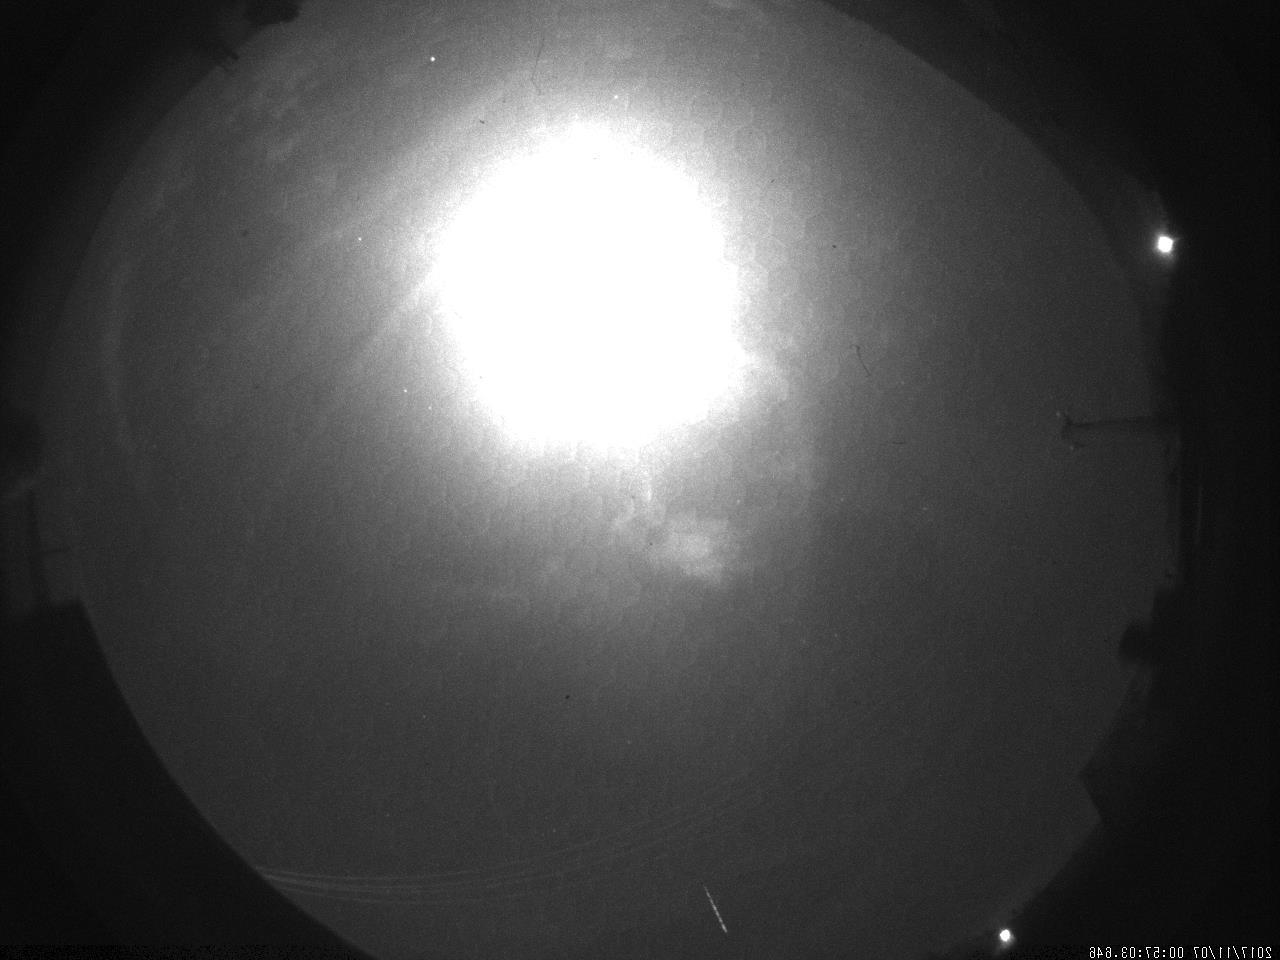meteor: (683, 871, 749, 939)
